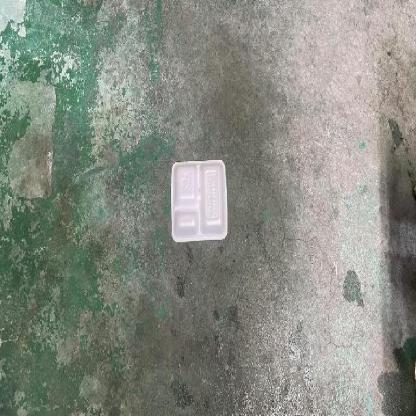Glass Cup: (170, 160, 228, 241), (170, 160, 227, 242)
